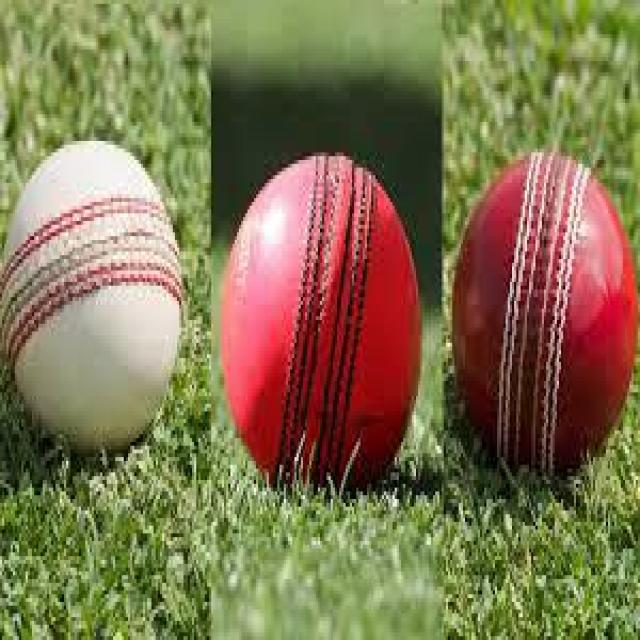ball: (220, 156, 420, 503), (2, 141, 179, 465), (450, 156, 629, 476)
